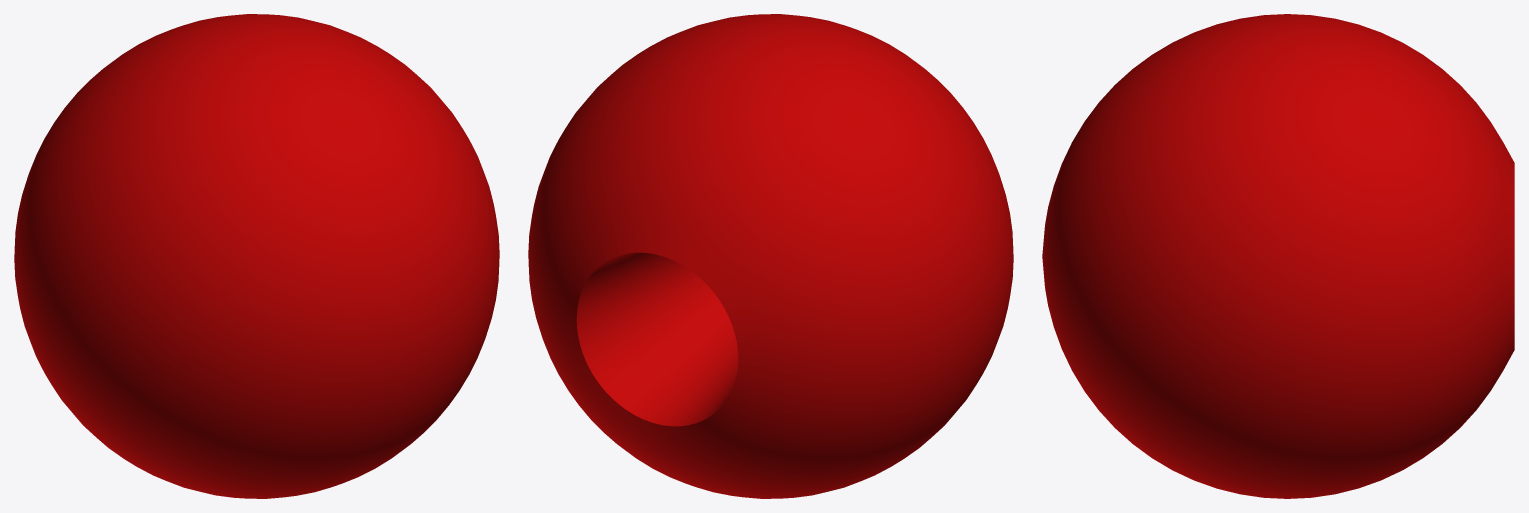
File: kendama_ball.obj
The picture shows the model from 3 angles, left to right: view 1: azimuth 30°, elevation 25°; view 2: azimuth 150°, elevation 25°; view 3: azimuth 270°, elevation 25°; orthographic projection.
Parts seen in each view (by area): view 1: kendama_ball_Sphere; view 2: kendama_ball_Sphere; view 3: kendama_ball_Sphere.
Boxes of the visible parts, x1,y1,x2,y2 form: kendama_ball_Sphere: (14, 14, 499, 498); kendama_ball_Sphere: (528, 14, 1013, 498); kendama_ball_Sphere: (1042, 14, 1514, 498).
Bounding box in the file's own units: 1.97 × 1.97 × 1.92.
